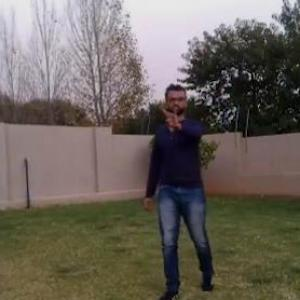takeoff-hand: (162, 98, 187, 128)
